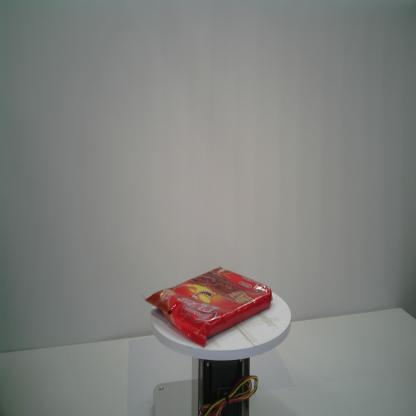Dessert: (142, 266, 272, 348)
